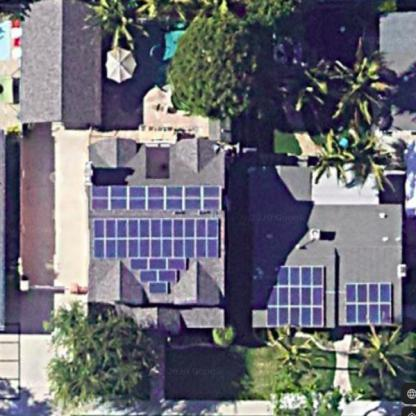solar_panel: (81, 215, 223, 296), (256, 254, 338, 337), (81, 175, 228, 214), (333, 280, 401, 330)
swimming_pool: (120, 17, 269, 124)
